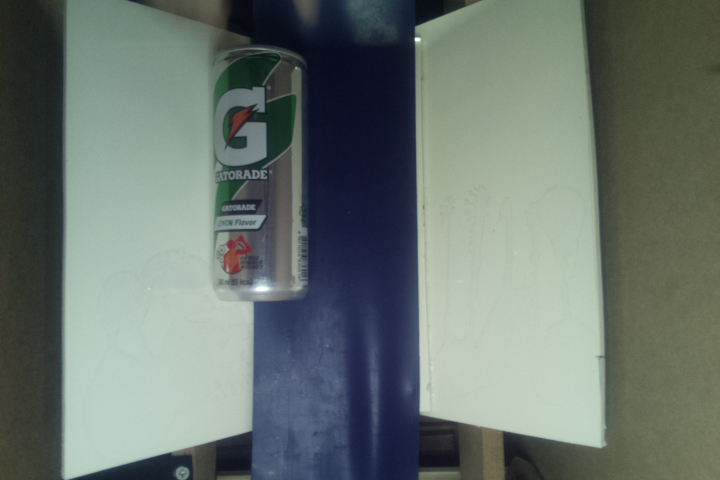can: (210, 45, 313, 304)
